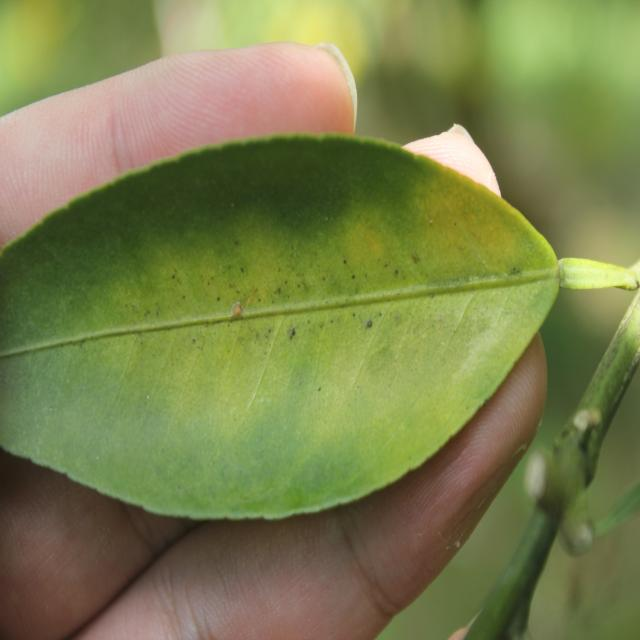blackspot: (1, 149, 547, 492)
